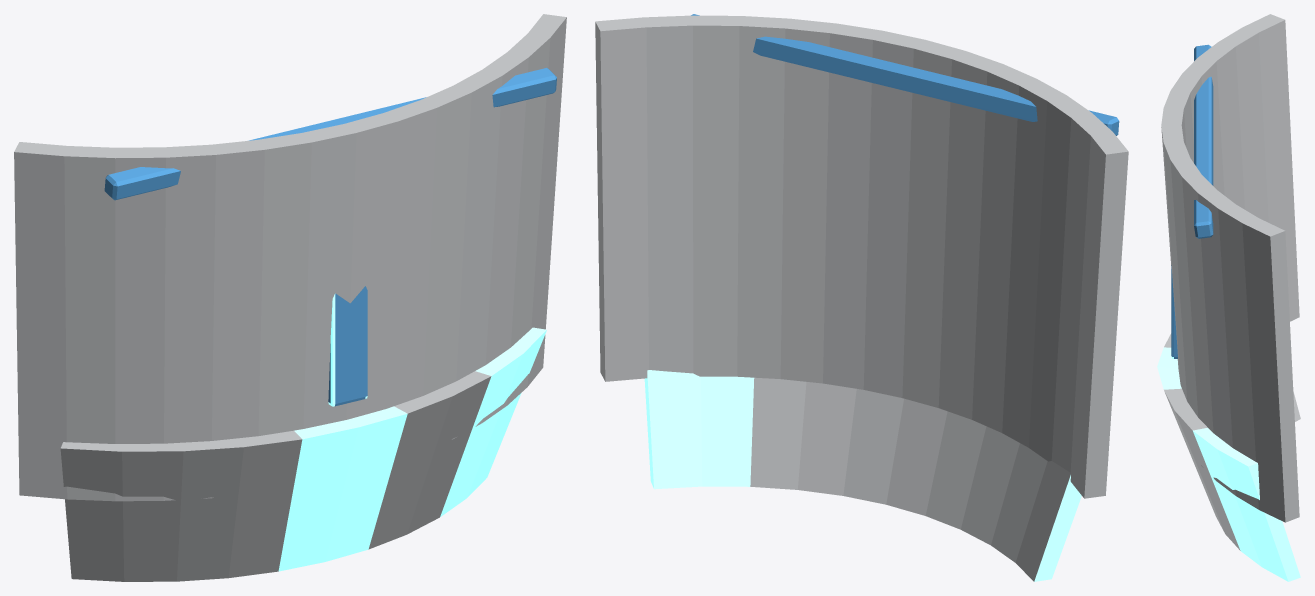
The model's file is chest__base.glb.
3 views of the same model, side by side, from view 1: azimuth 30°, elevation 25°; view 2: azimuth 150°, elevation 25°; view 3: azimuth 270°, elevation 25° (orthographic). The views are drawn at different scales.
Visible parts, largest first — view 1: armor_chest__base_v001; view 2: armor_chest__base_v001; view 3: armor_chest__base_v001.
Part boxes in pixels (x1,y1,x2,y2): armor_chest__base_v001: (14,14,566,581); armor_chest__base_v001: (595,14,1128,581); armor_chest__base_v001: (1157,14,1300,581).
Bounding box in the file's own units: 0.589 × 0.46 × 0.1607.
